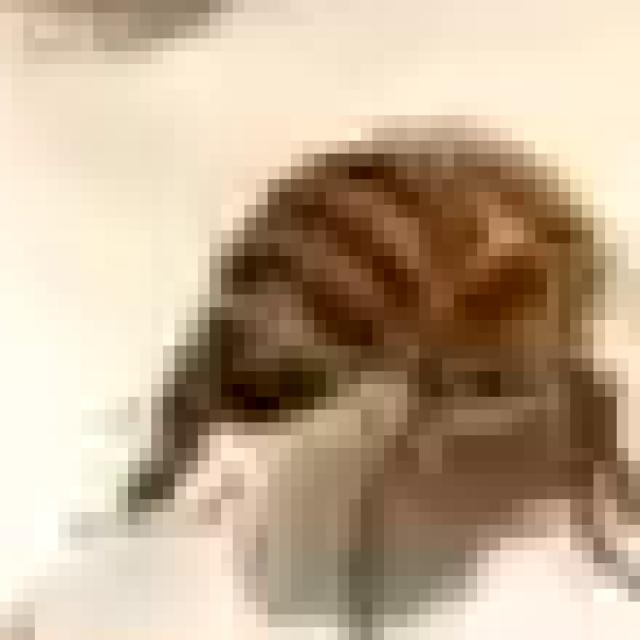honeybee: (101, 116, 625, 532)
